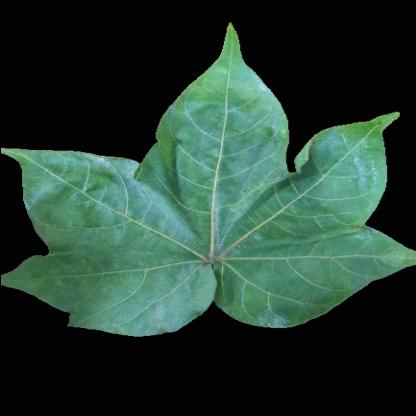curl_stage1: (189, 81, 286, 125)
healthy: (91, 165, 338, 285), (35, 158, 89, 244), (170, 125, 272, 161), (93, 287, 165, 331), (335, 232, 391, 279), (340, 137, 382, 199), (236, 287, 308, 323)
